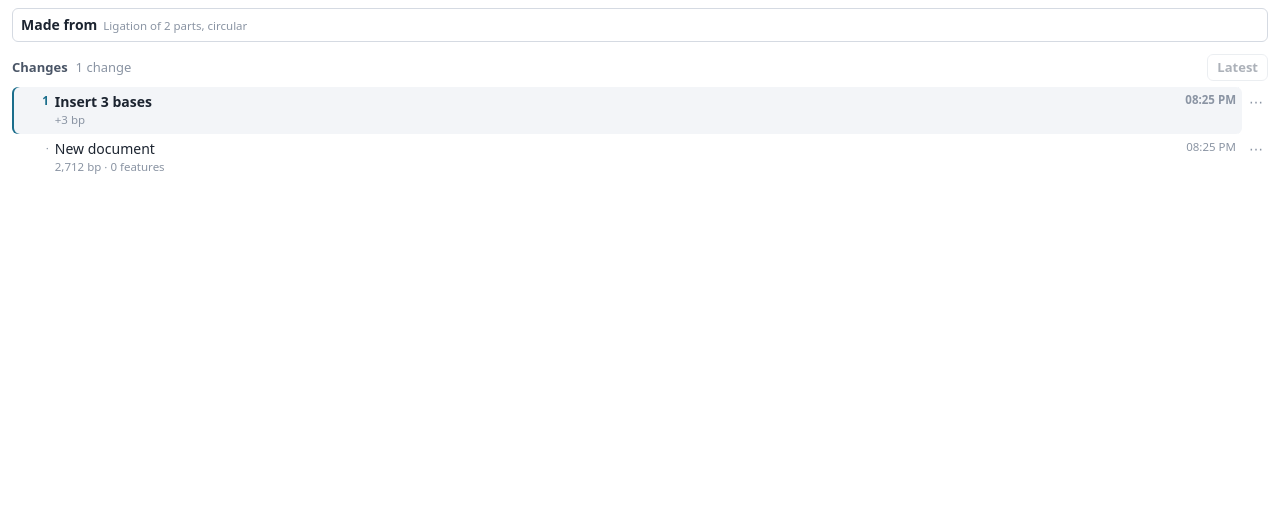
Test: Made from, in the History tab (#67) › says the document has been edited since it was made
Click the text "Made from" at (59, 25), box x1=21 y1=15 x2=97 y2=35
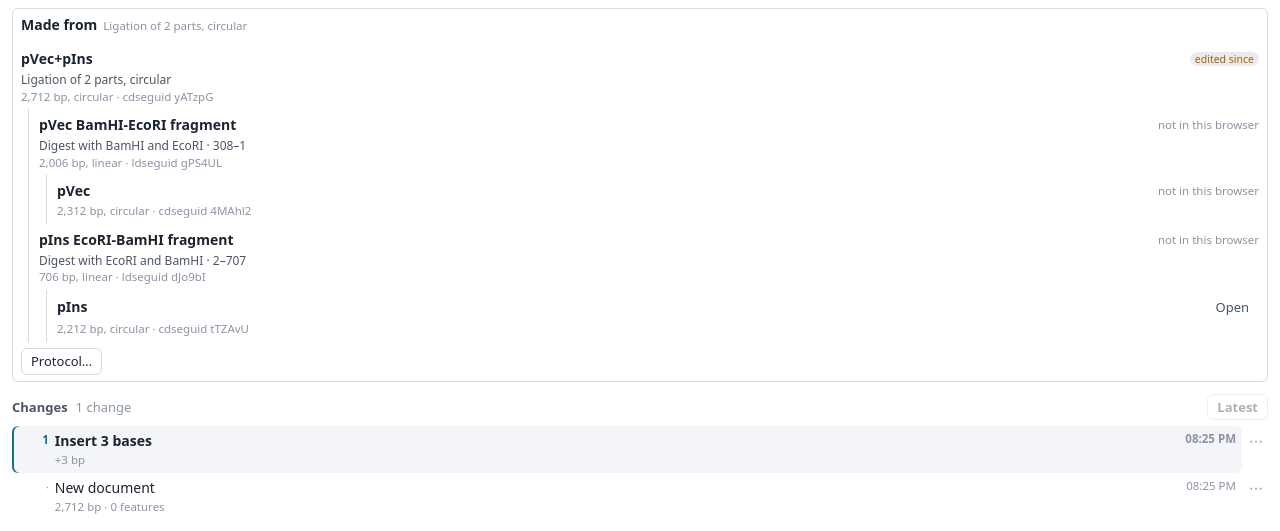
Now the text "edited since" is shown, box x1=1190 y1=52 x2=1259 y2=66
